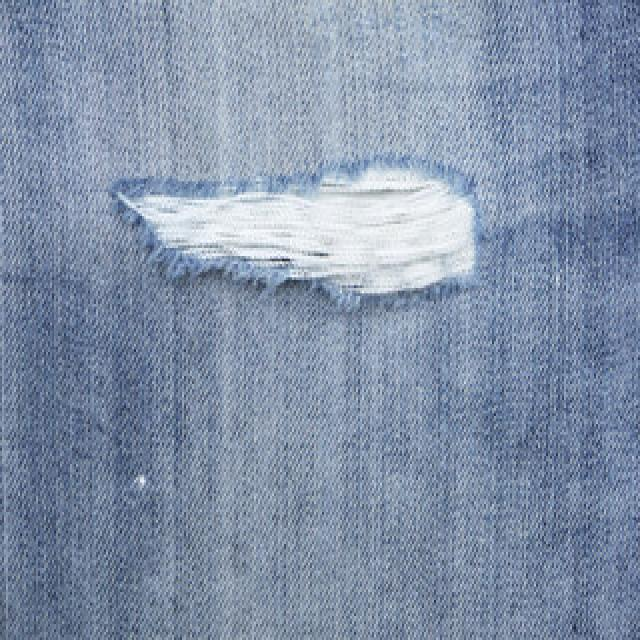Hole: (111, 158, 480, 306)
